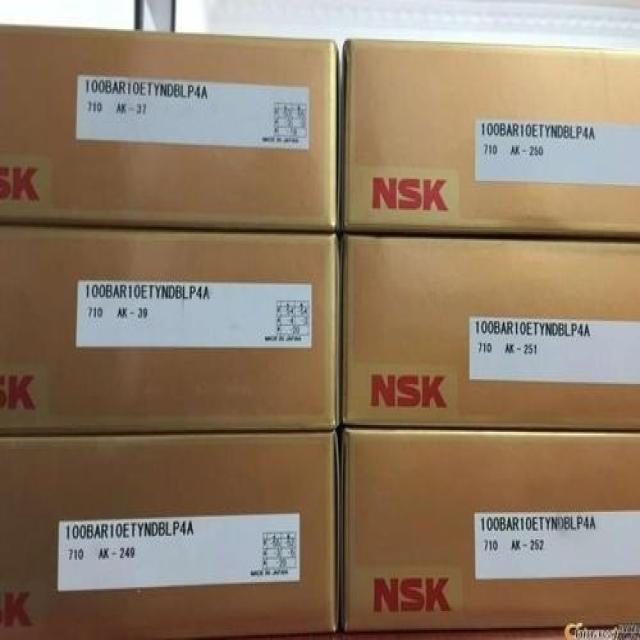box: (0, 225, 339, 439), (0, 22, 339, 234), (0, 433, 340, 640), (340, 427, 640, 640), (338, 39, 640, 244), (342, 232, 640, 439)
